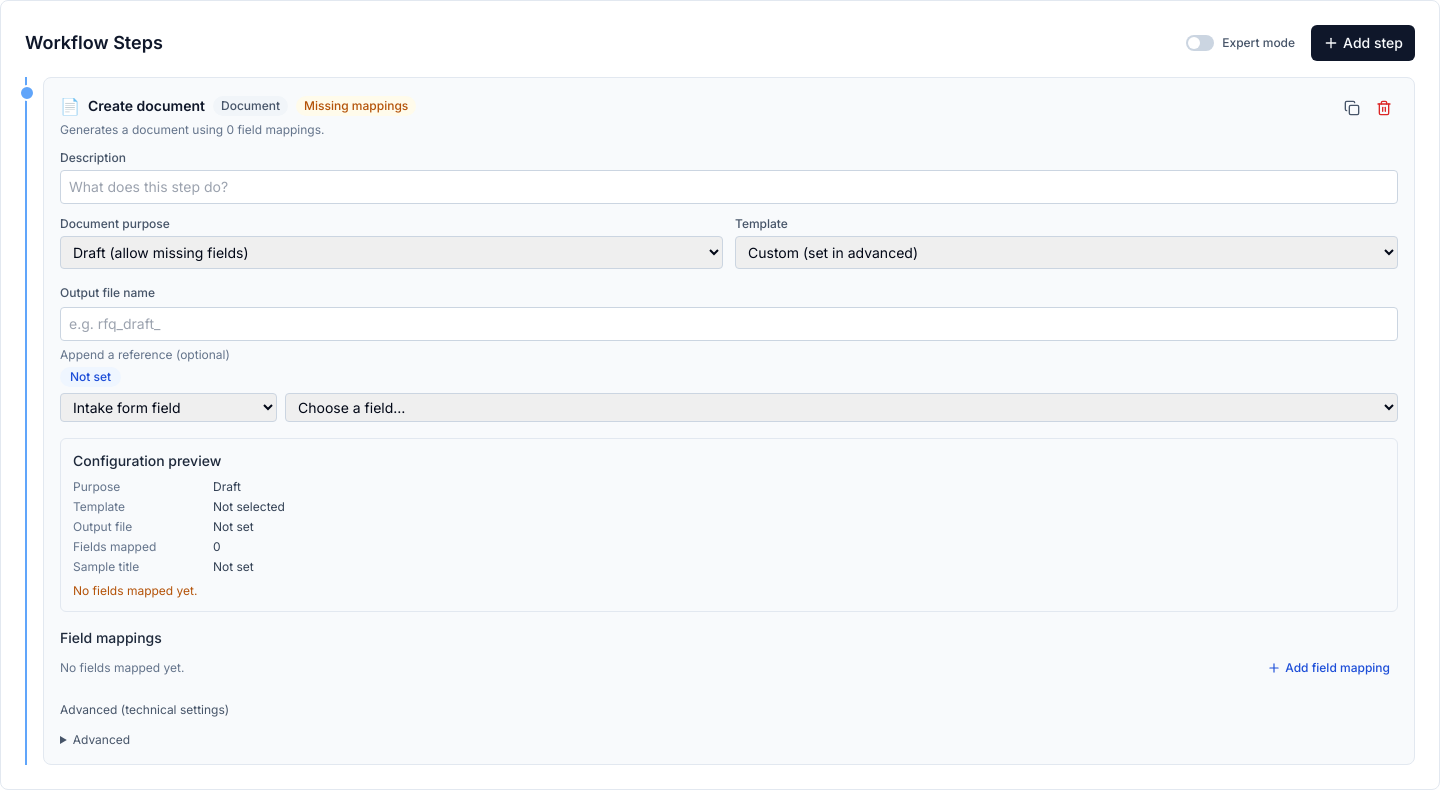
WorkflowStepsSection — business mode › reveals the internal Step ID and type once expert mode is enabled
What coordinates should you click on to do the following:
click the switch labelled "Expert mode"
I would click on:
 (1241, 43)
Its box is [1182, 33, 1299, 53].
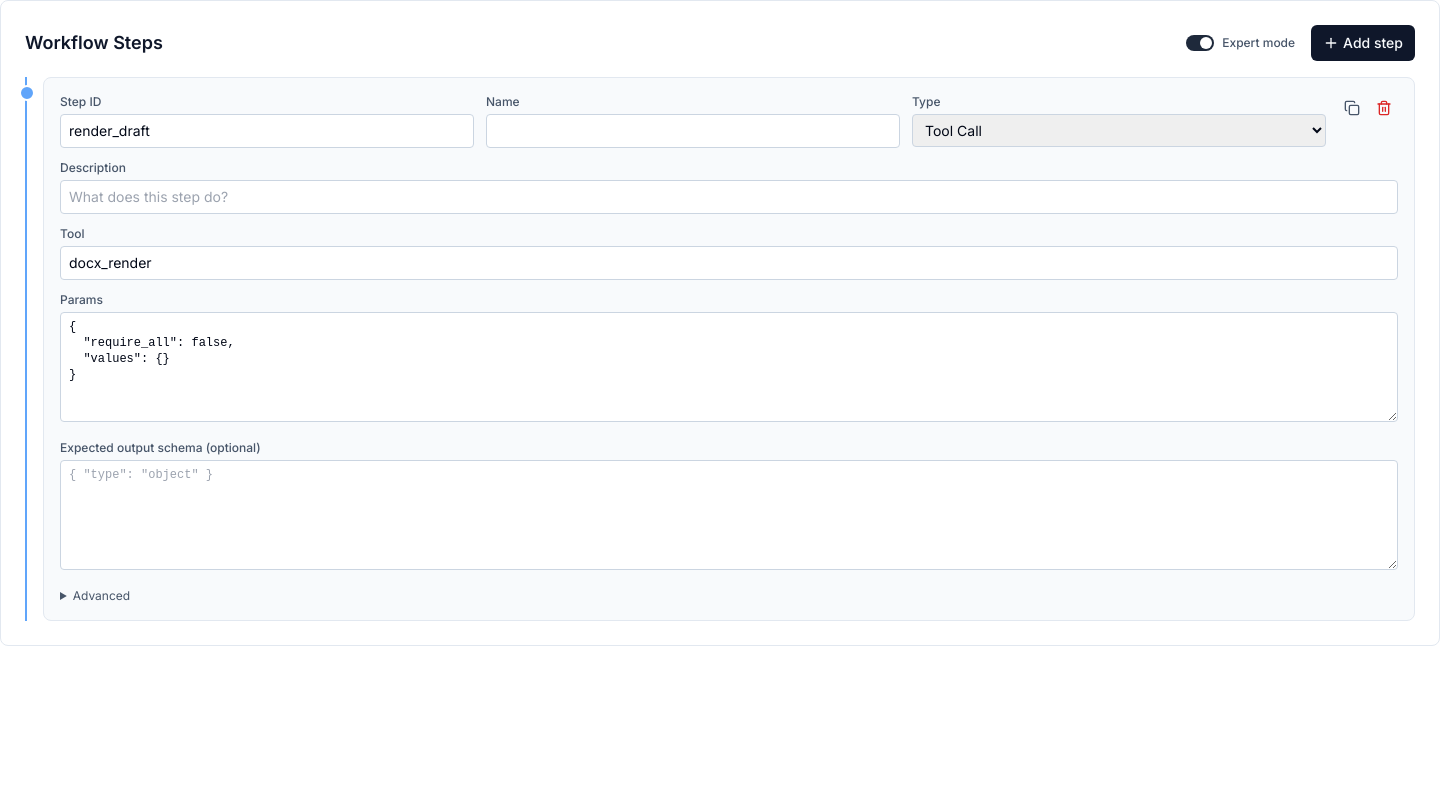
Now the text "Step ID" is shown, box [60, 94, 101, 109]
Now the field showing "render_draft" below "Step ID" is shown, box [60, 114, 474, 148]
